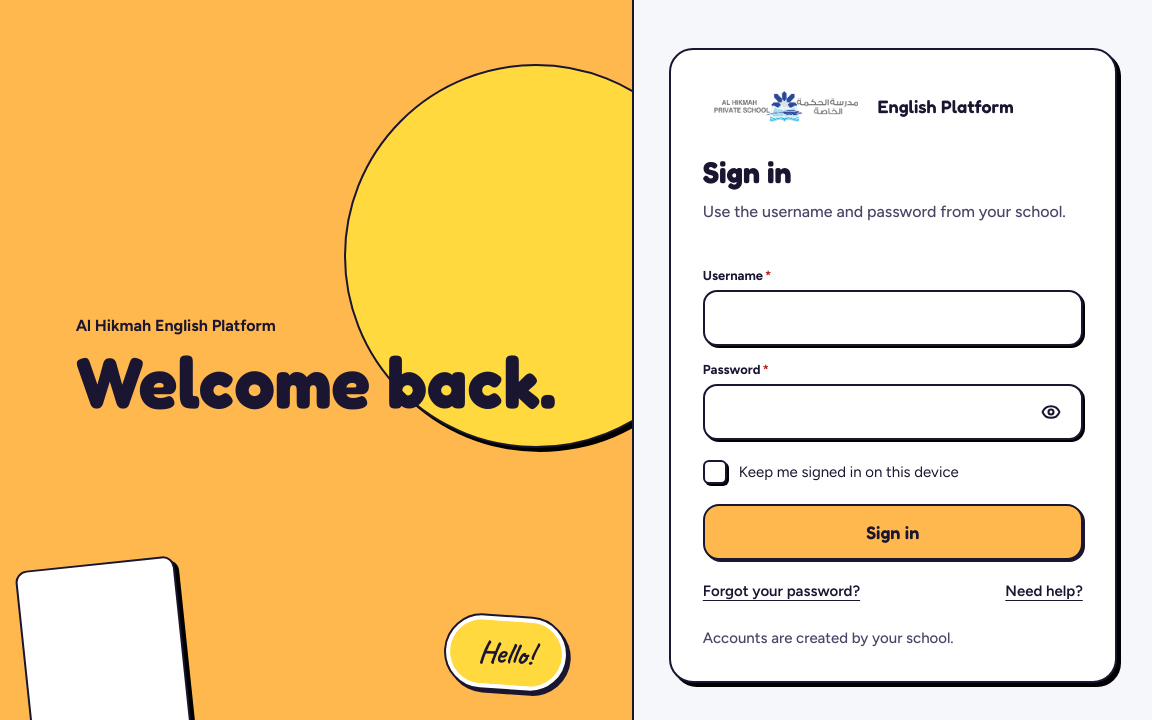
PUB-04: LoginPage (SH-02) › validation › validates a field when it loses focus
Click the field labelled "Username*" at (893, 318), box x1=717 y1=292 x2=1069 y2=344
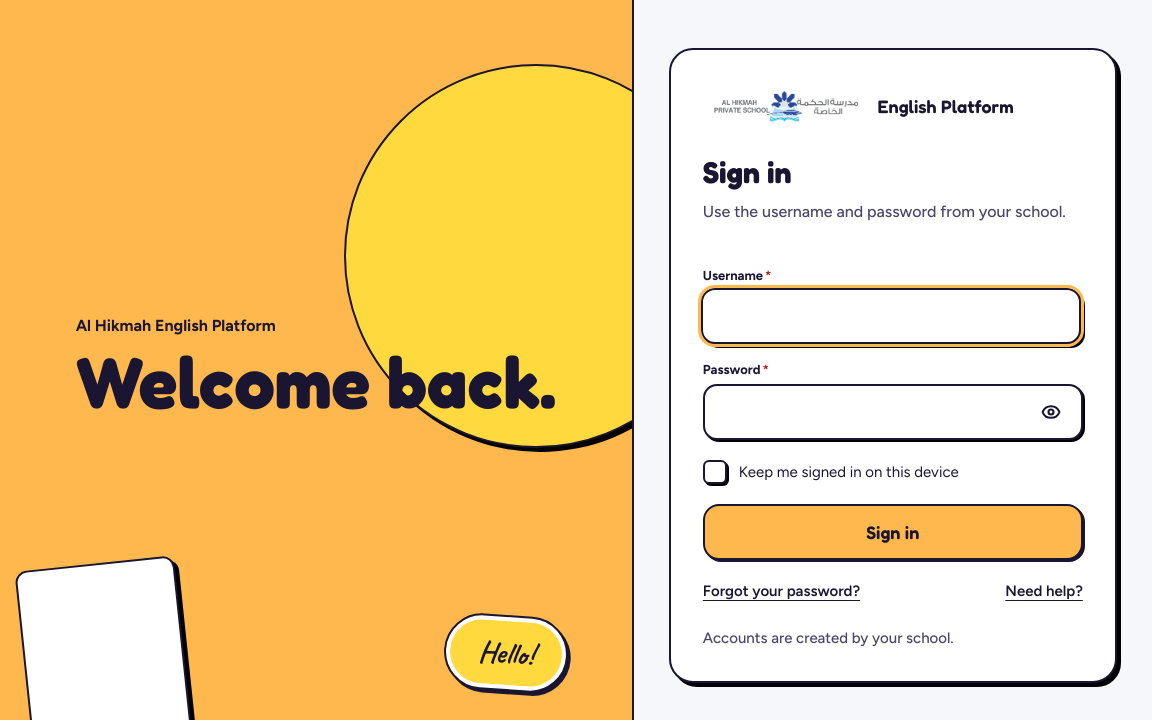
Press Tab
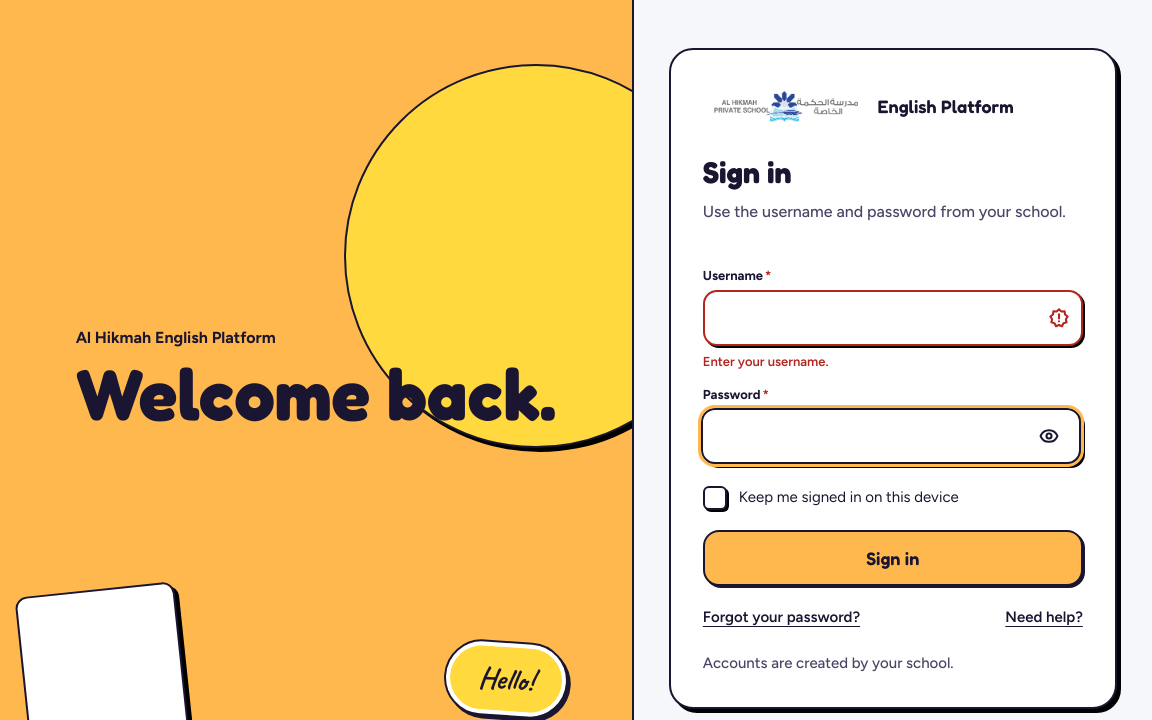
Check: the text "Enter your username." is shown, box x1=703 y1=352 x2=828 y2=371
